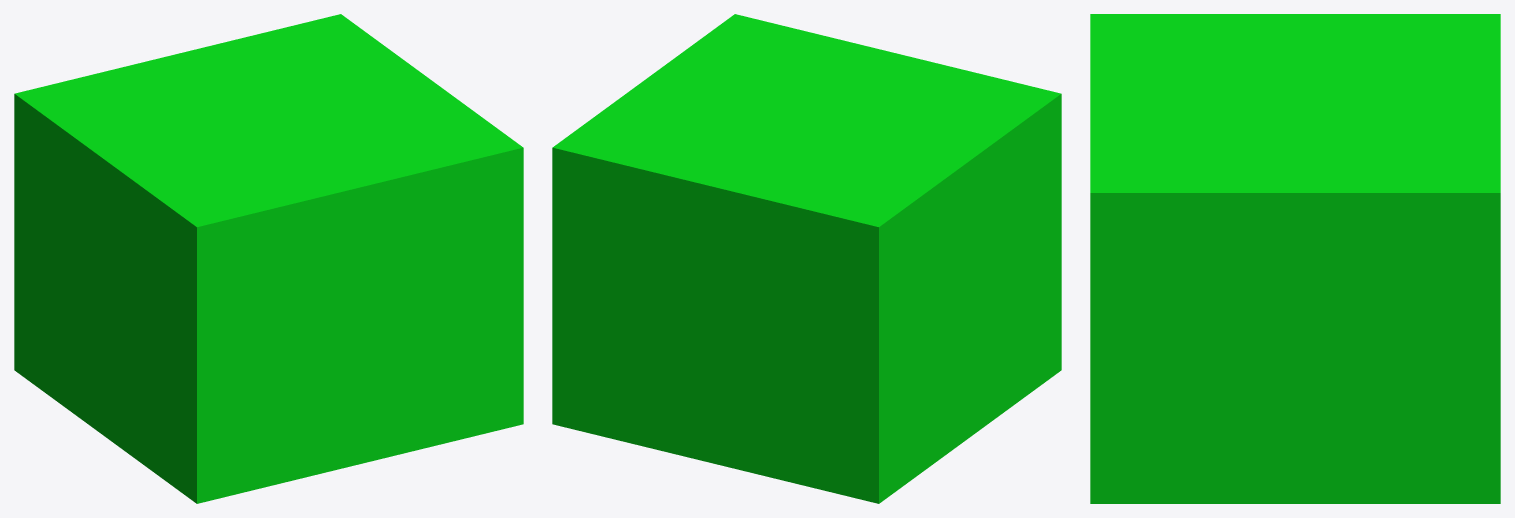
Rendered from Wall_Brick_01.fbx.
3 views of the same model, side by side, from view 1: azimuth 30°, elevation 25°; view 2: azimuth 150°, elevation 25°; view 3: azimuth 270°, elevation 25° (orthographic). The views are drawn at different scales.
Parts seen in each view (by area): view 1: Wall_Brick_01; view 2: Wall_Brick_01; view 3: Wall_Brick_01.
Part boxes in pixels (x1,y1,x2,y2): Wall_Brick_01: [14, 14, 523, 503]; Wall_Brick_01: [552, 14, 1061, 503]; Wall_Brick_01: [1090, 14, 1500, 503].
Size of the model in its own units: 169 by 137 by 164.
